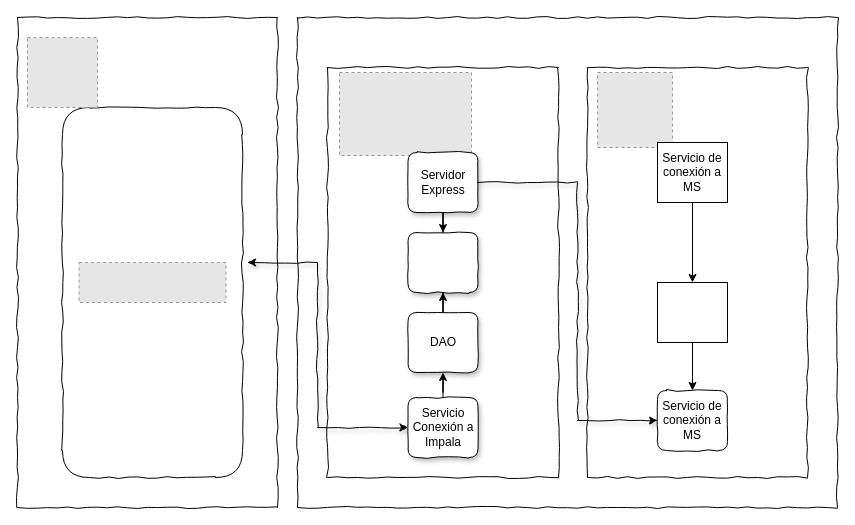
Some shapes in this 855 by 525 pixel diagram are drawn without their labels. Grey dashed boxes stand in for pictures. The centre of each missing label's shape, as x and y in pixels:
"Componente" belongs at [692,312].
"Controller" belongs at [443,264].
